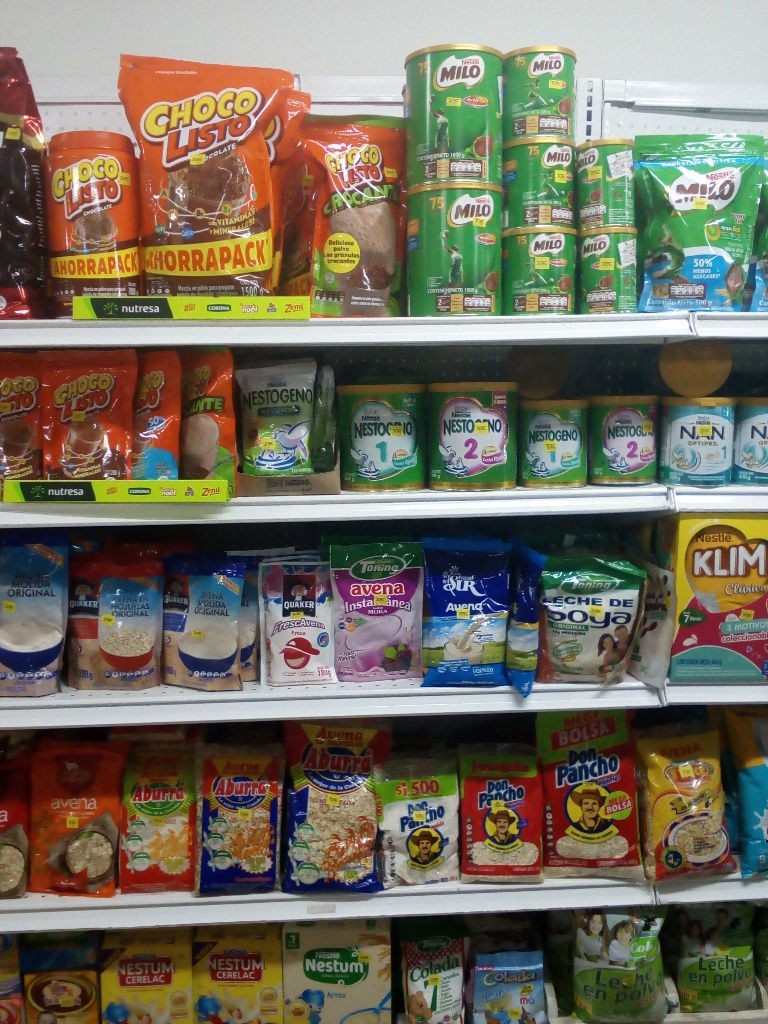COL0170102DYP25000: (182, 344, 240, 493)
COL0170102DYP50000: (306, 107, 403, 317)
COL0170103DYP1,500: (122, 45, 303, 292)
COL0170103TRR00100: (36, 127, 143, 302)
COL0170104DYP20000: (132, 347, 185, 484)
COL0170203LAT20000: (581, 125, 633, 228)
COL0170203LAT40000: (501, 139, 588, 238)
COL0170205DYP50000: (636, 129, 762, 312)
